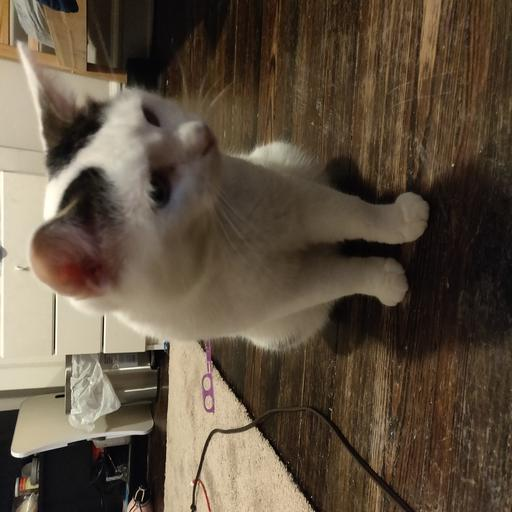cat: (25, 47, 324, 346)
